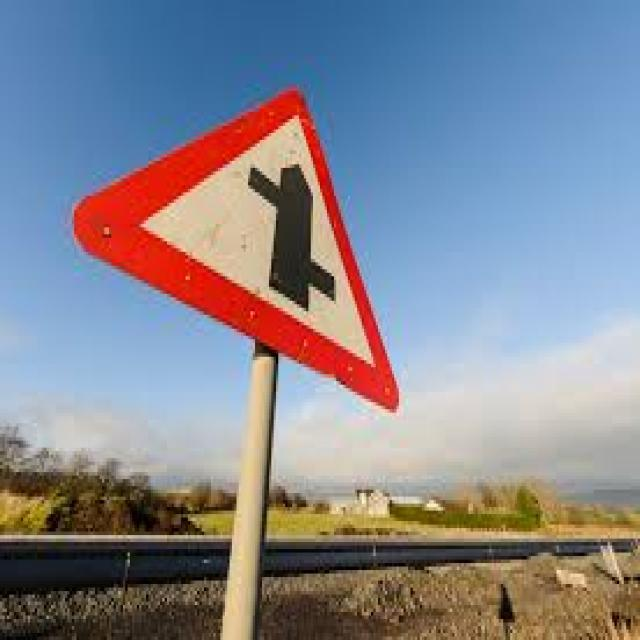staggered intersection: (74, 78, 399, 411)
